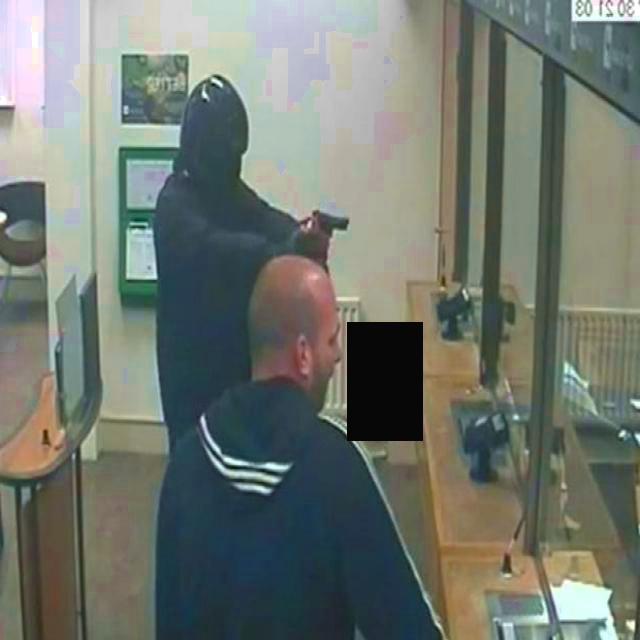gun: (299, 200, 354, 257)
